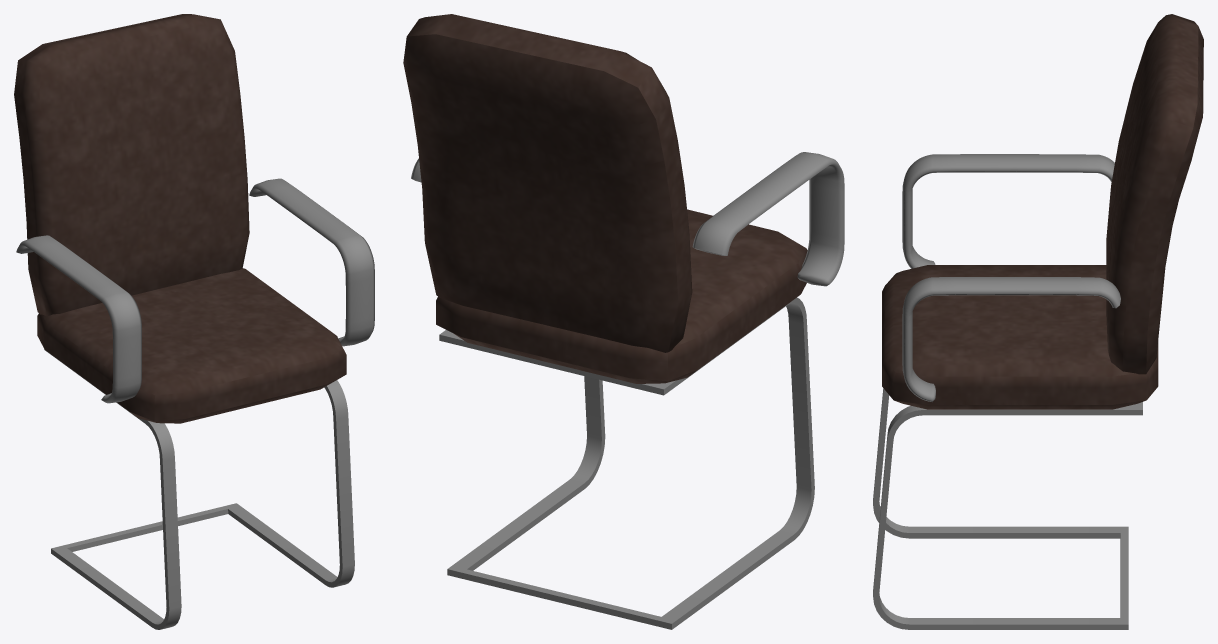
Rendered from OfficeChair 2.FBX.
The picture shows the model from 3 angles, left to right: view 1: azimuth 30°, elevation 25°; view 2: azimuth 150°, elevation 25°; view 3: azimuth 270°, elevation 25°; orthographic projection. The views are drawn at different scales.
Visible parts, largest first — view 1: Chair; view 2: Chair; view 3: Chair.
Boxes of the visible parts, box(x1,y1,x2,y2) form: Chair: box(14, 14, 374, 629); Chair: box(403, 14, 844, 629); Chair: box(873, 14, 1203, 629).
Bounding box in the file's own units: 21.25 × 37.76 × 21.51.
